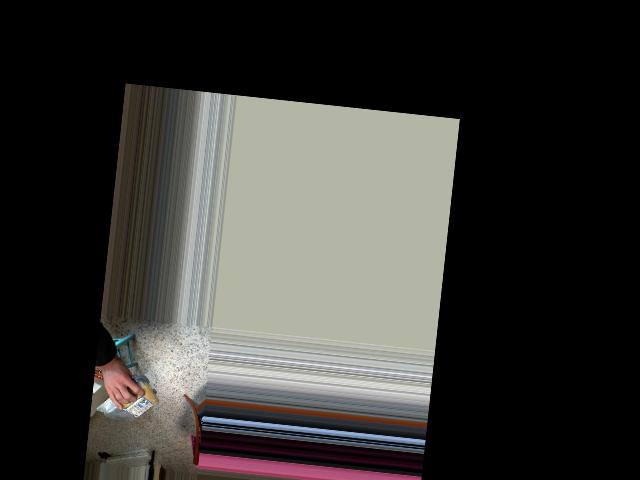cheese: (94, 381, 158, 420)
